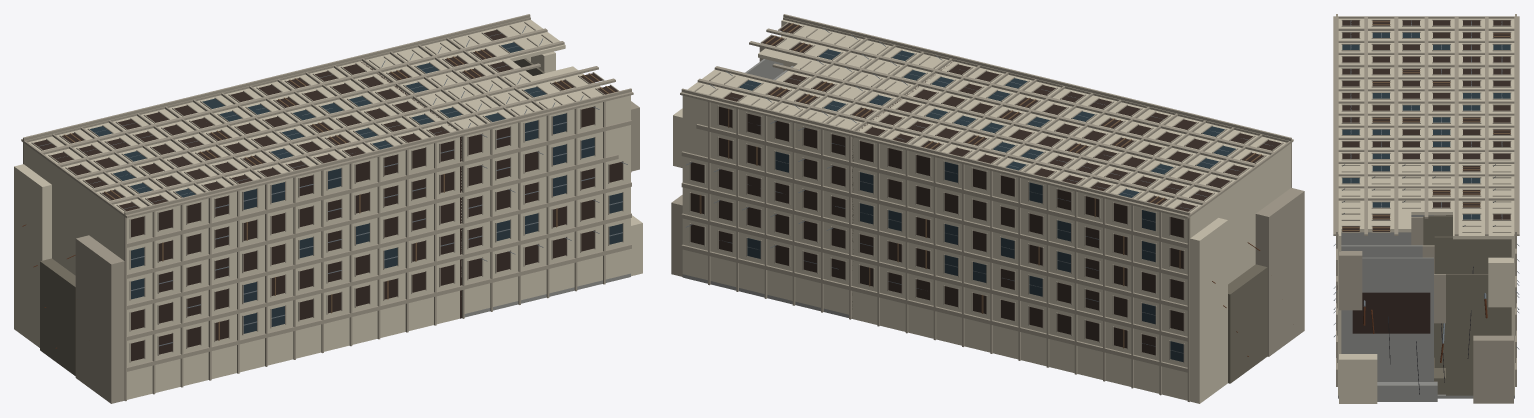
The model's file is tw_fallen_section.glb.
3 views of the same model, side by side, from view 1: azimuth 30°, elevation 25°; view 2: azimuth 150°, elevation 25°; view 3: azimuth 270°, elevation 25° (orthographic). The views are drawn at different scales.
Parts seen in each view (by area): view 1: tw_fallen_section; view 2: tw_fallen_section; view 3: tw_fallen_section.
Part boxes in pixels (left/top/right/bottom): tw_fallen_section: left=14, top=14, right=642, bottom=403; tw_fallen_section: left=671, top=14, right=1304, bottom=403; tw_fallen_section: left=1333, top=14, right=1519, bottom=403.
Size of what is drawn, in the model's own units: 72.36 by 24.42 by 24.68.
2 materials, 2 textured.
